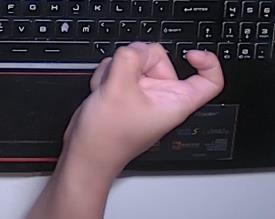anticlockwise: (57, 39, 226, 162)
